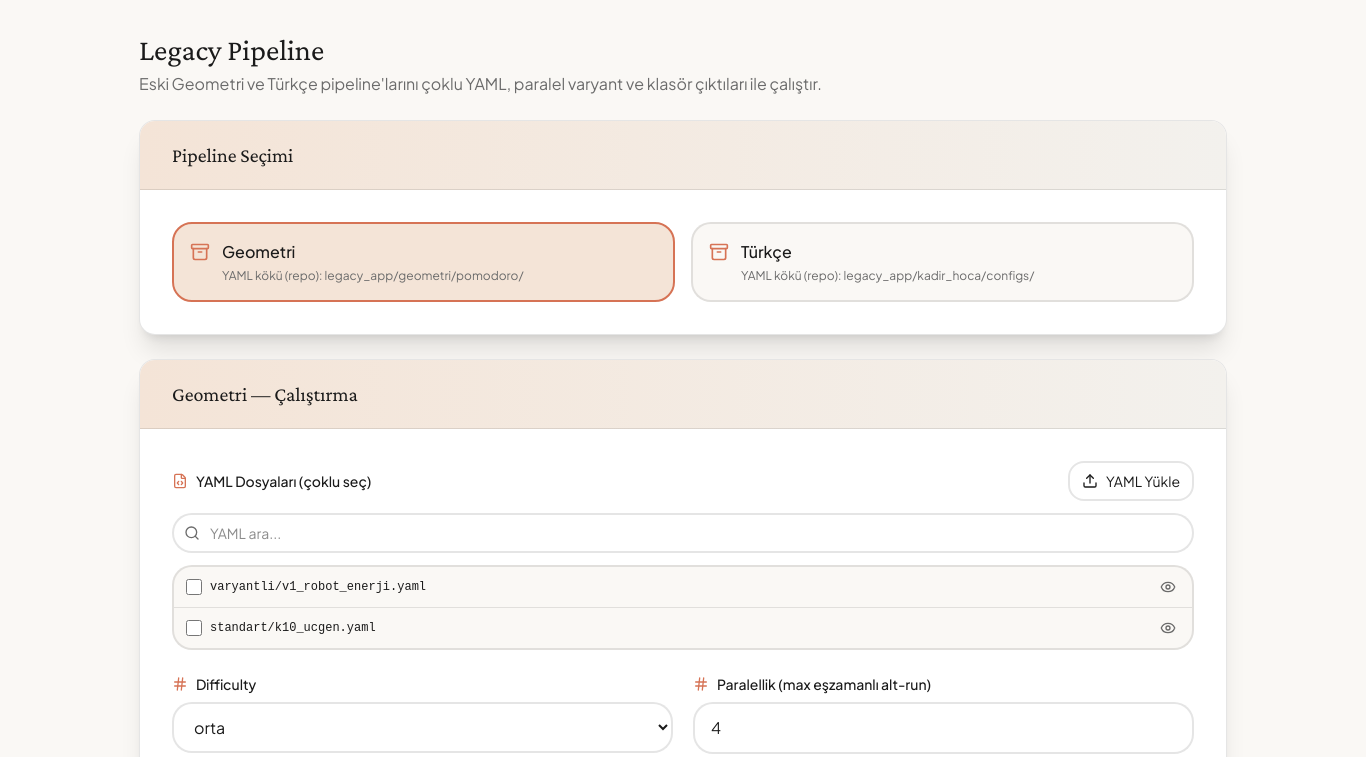
LegacyPipelinePage › pipeline türü değişince seçili YAML'lar sıfırlanır (state preservation guard)
The width and height of the screenshot is (1366, 757).
Click the checkbox named "YAML seç: varyantli/v1_robot_enerji.yaml": (194, 587) [186,579,202,595]
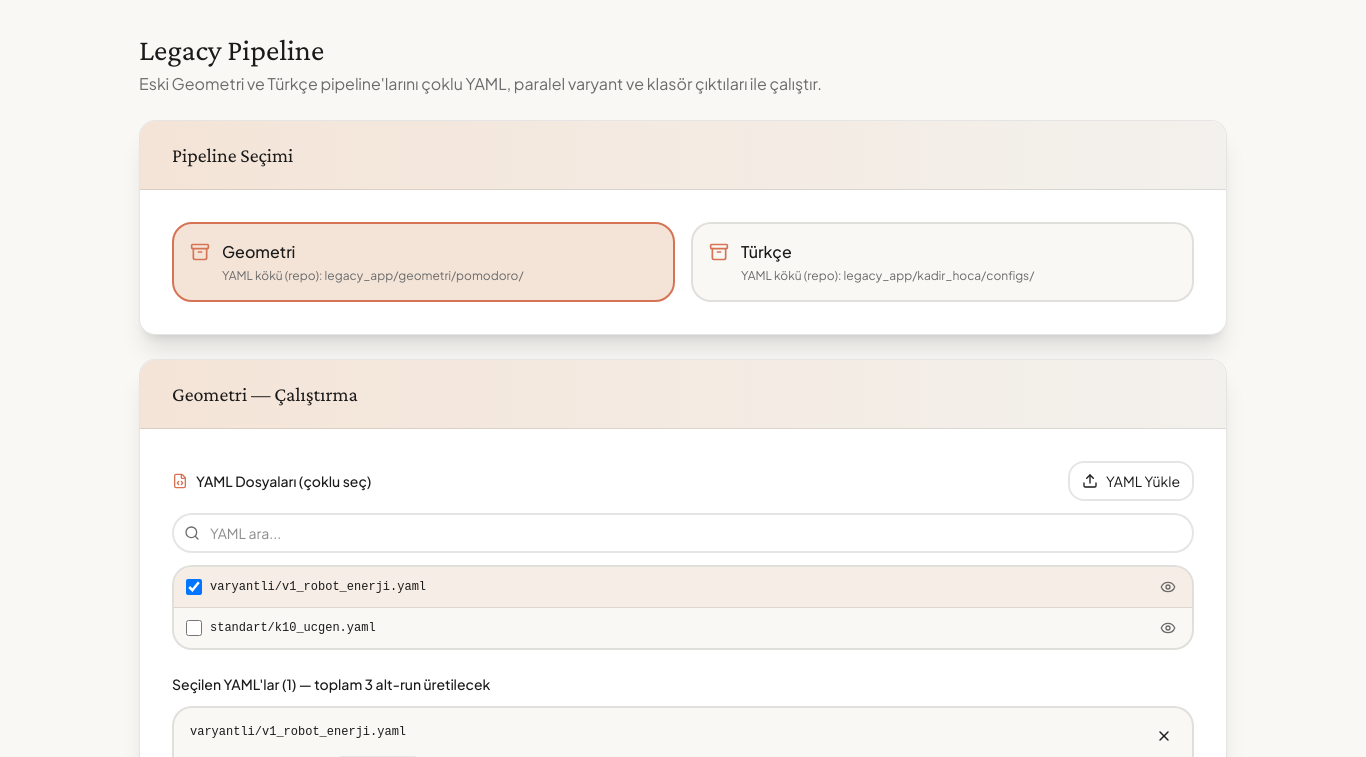
Check: the text "Seçilen YAML'lar (1) — toplam 3 alt-run üretilecek" is shown, box [172,675,490,693]
Click the button "Türkçe YAML kökü (repo): legacy_app/kadir_hoca/configs/": (766, 252) [691,222,1194,302]
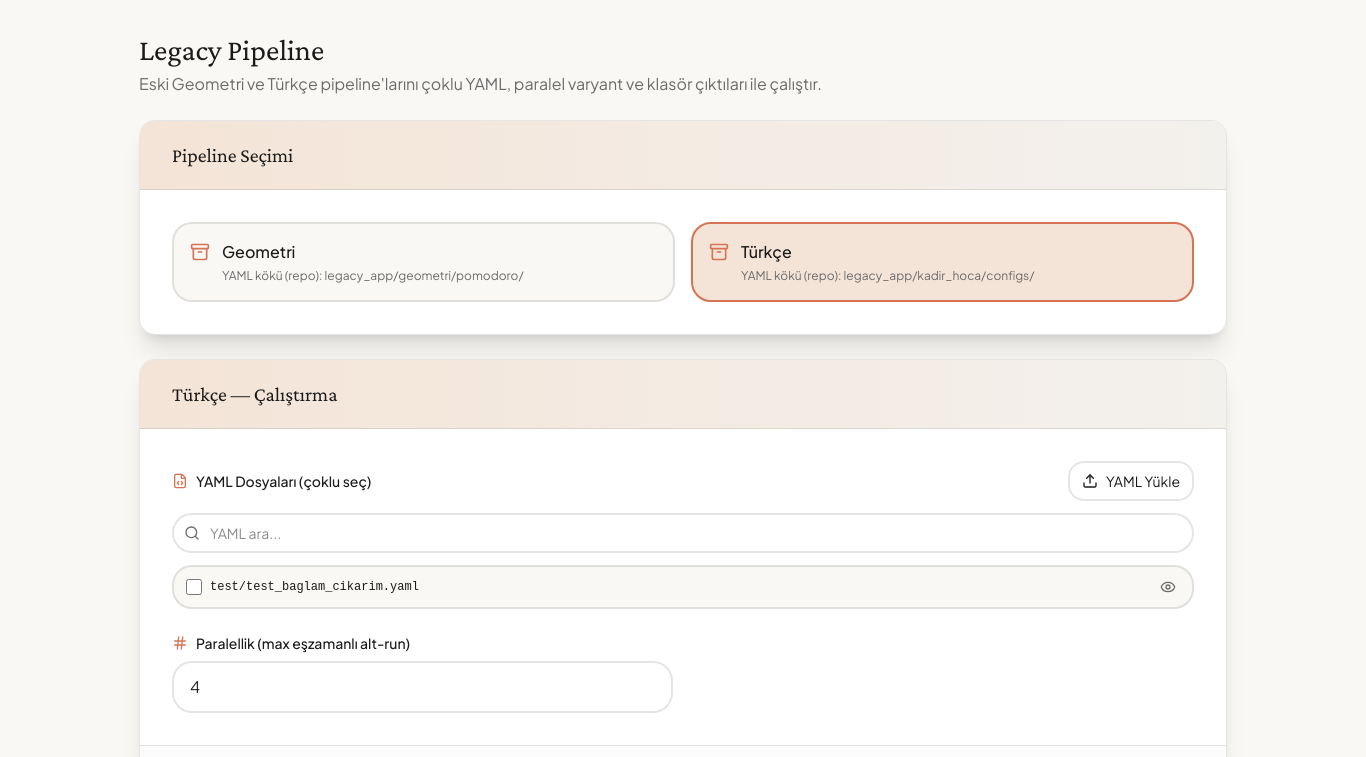
Check: the text "Seçilen YAML'lar" is gone
